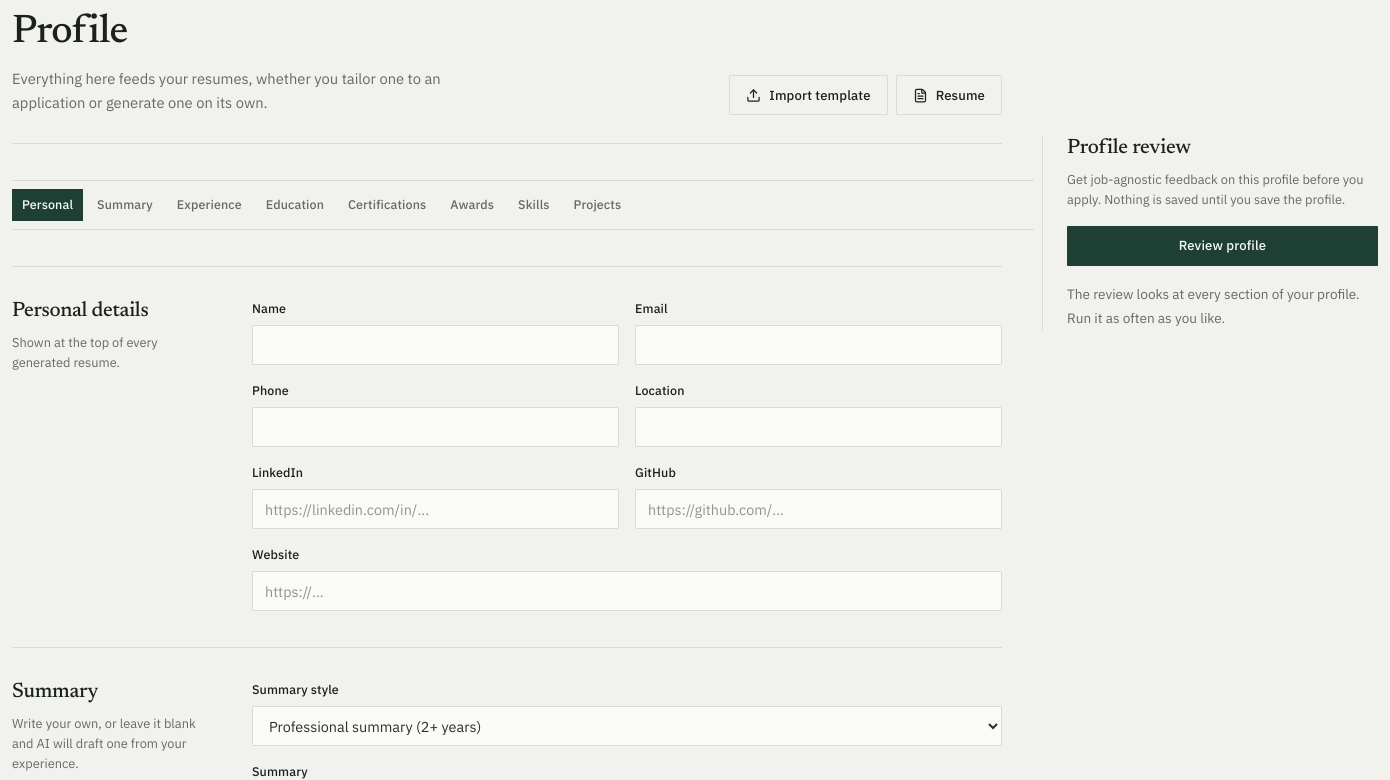
Scenario: ProfilePage › blocks invalid input with inline errors
expect the heading "Profile" is shown: met, box [12, 13, 128, 53]
Type "Jane Doe" into the field labelled "Name" at (436,345), box [252, 325, 619, 365]
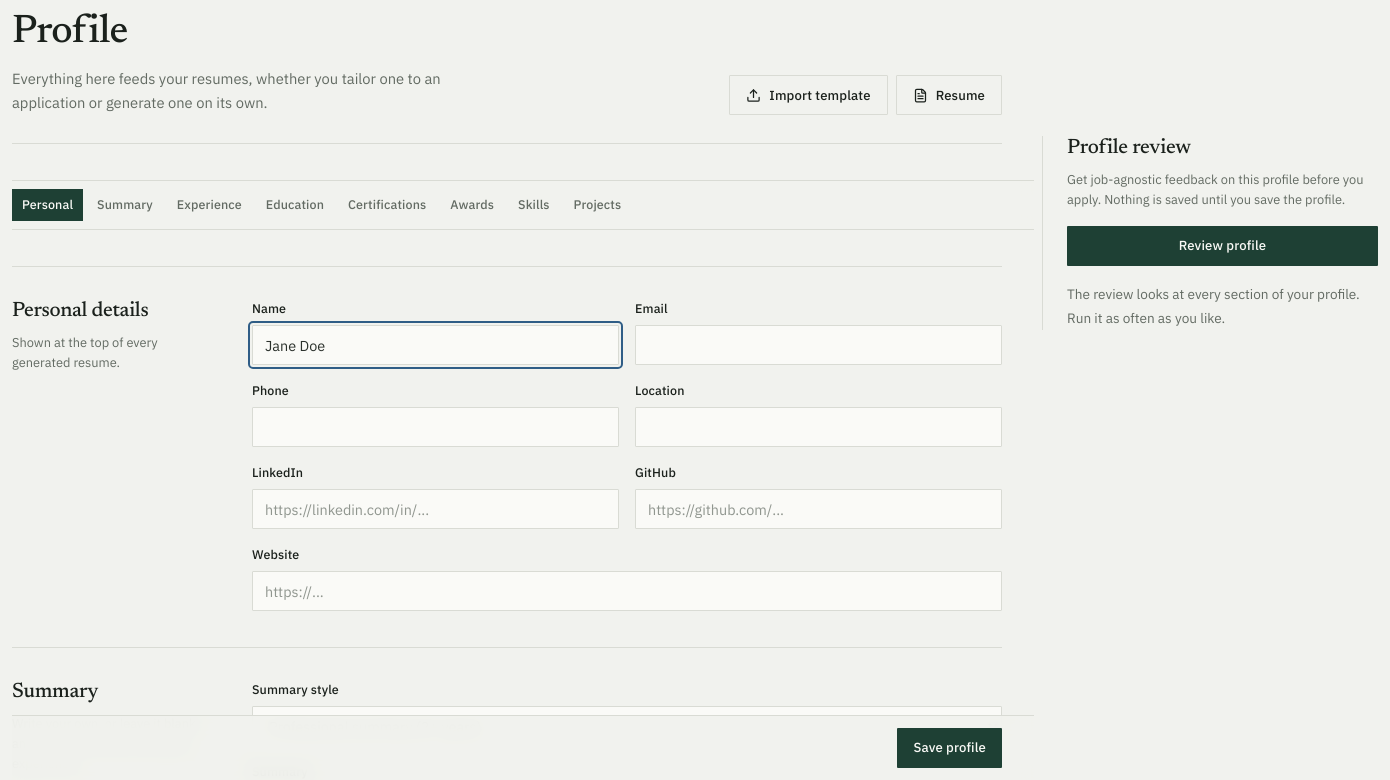
Type "not-an-email" into the field labelled "Email" at (818,345), box [635, 325, 1002, 365]
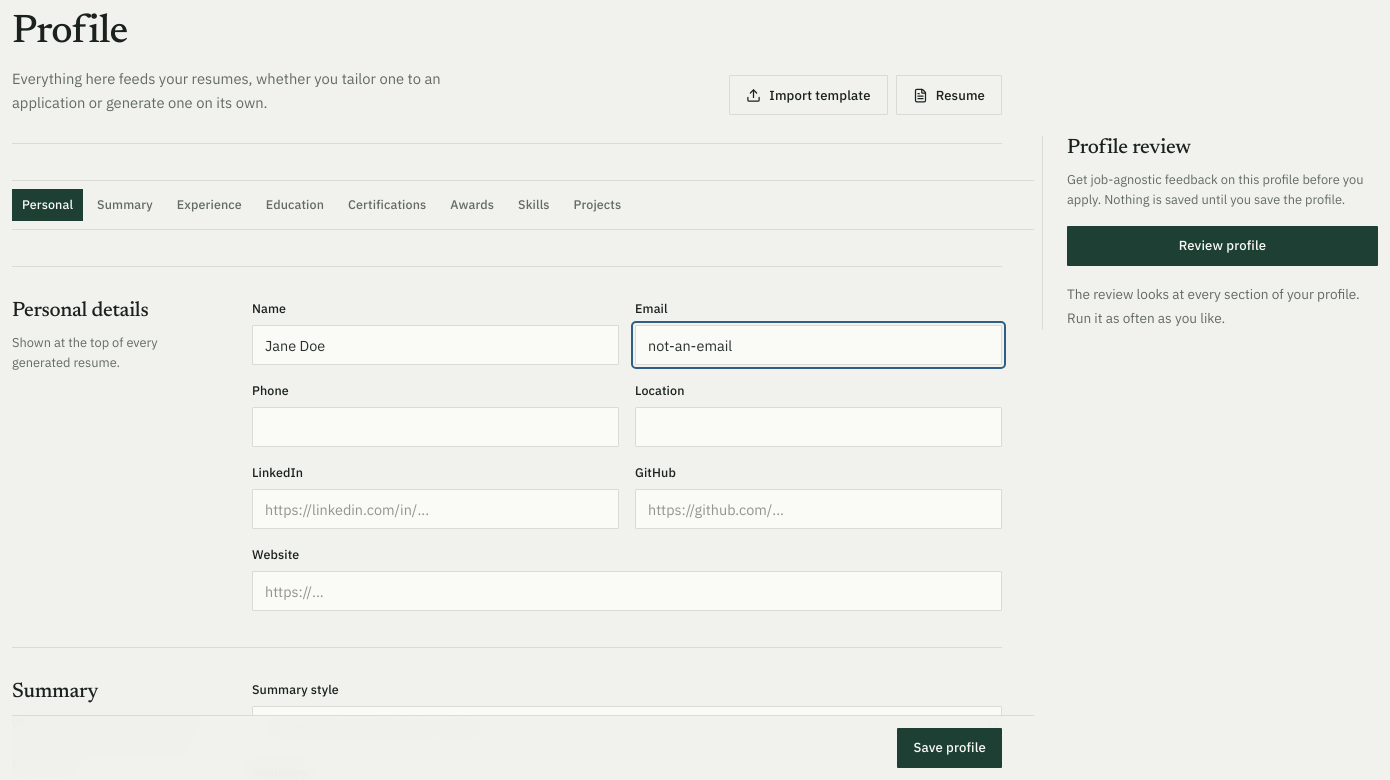
Click the button "Save profile" at (950,748), box [898, 728, 1002, 768]
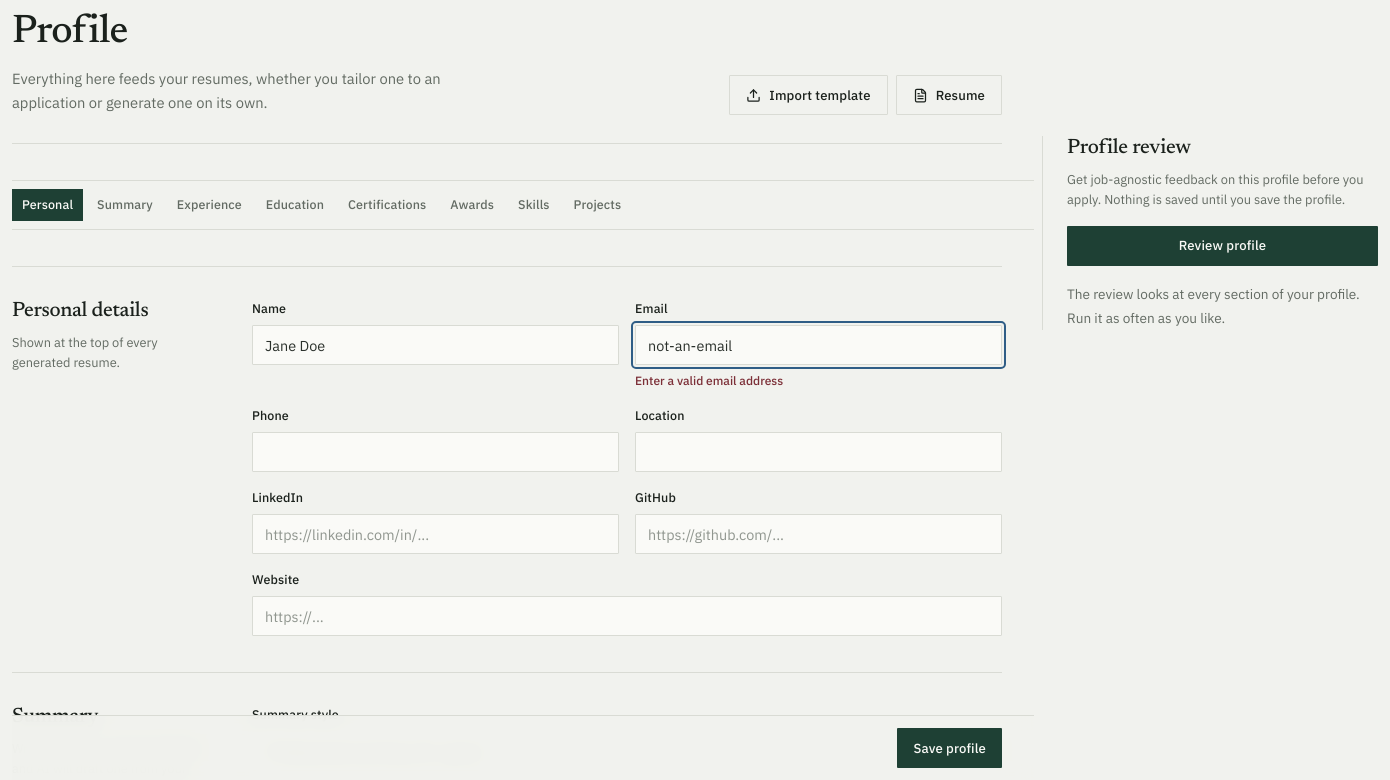
expect the text "Enter a valid email address" is shown: met, box [635, 373, 783, 388]
